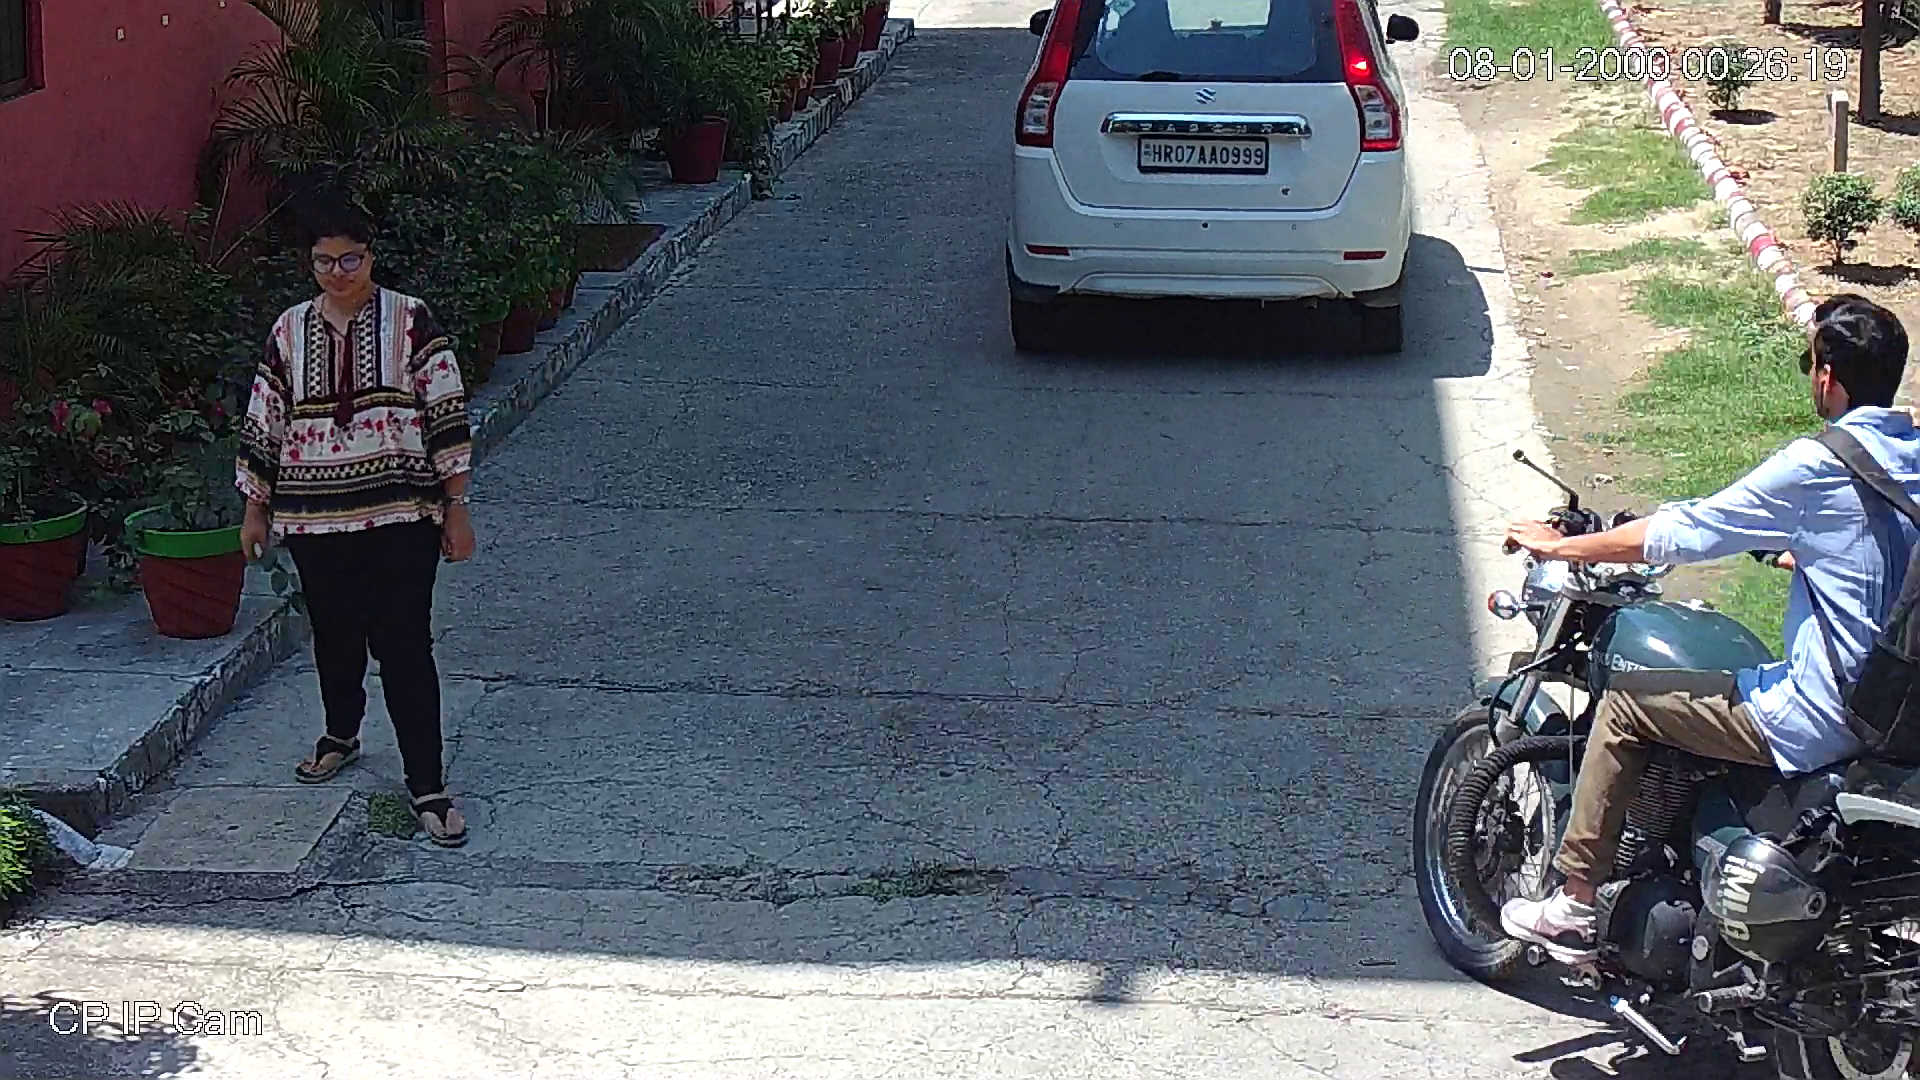plate: (1135, 129, 1275, 179)
